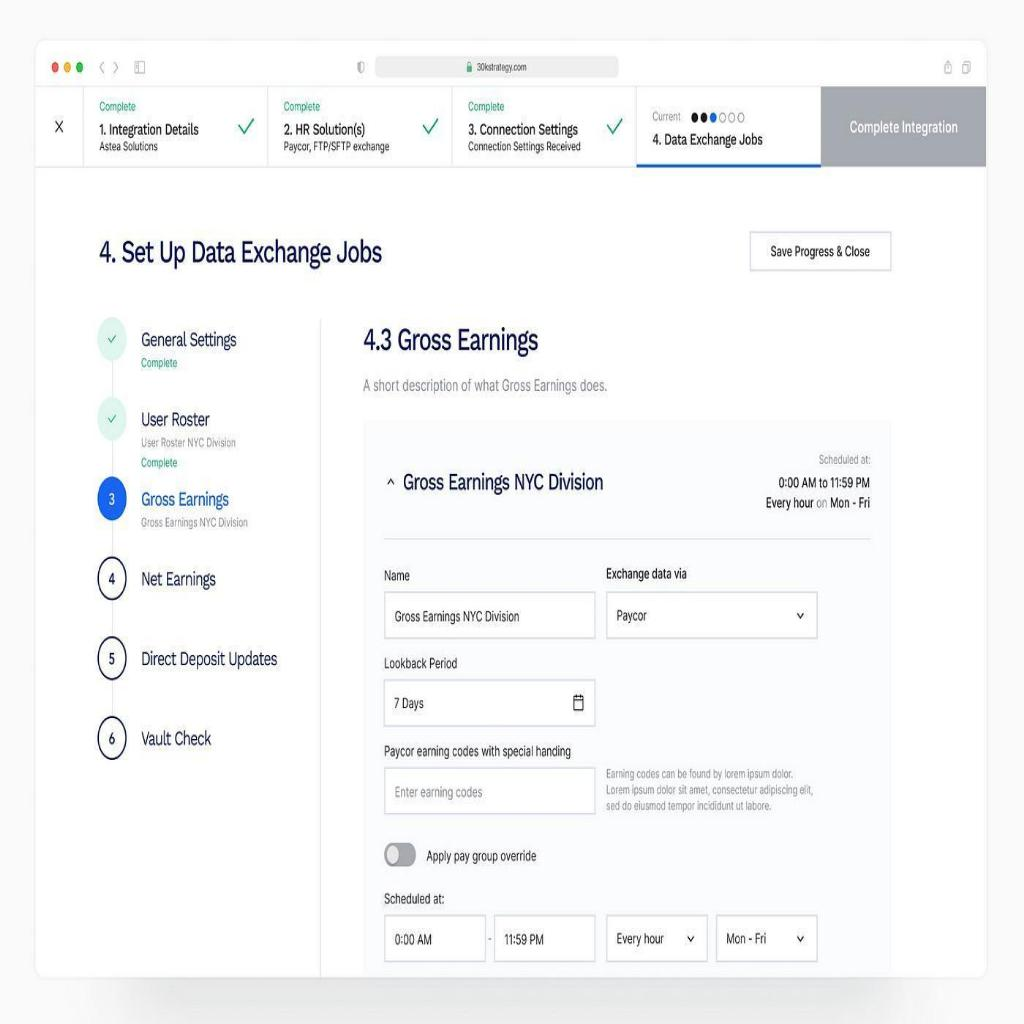button: (820, 87, 985, 166), (750, 232, 892, 271)
dropdown: (606, 592, 818, 639), (715, 914, 817, 961), (606, 916, 708, 962)
icon: (54, 116, 64, 137)
input: (384, 680, 596, 727), (384, 592, 595, 639), (385, 768, 595, 814), (384, 914, 486, 963), (494, 915, 595, 962)
label: (96, 236, 386, 268), (364, 322, 538, 358), (400, 468, 604, 496), (466, 122, 583, 156), (282, 122, 392, 154), (384, 743, 572, 760), (97, 122, 202, 152), (142, 650, 280, 672), (648, 129, 764, 149), (140, 328, 238, 350), (140, 488, 230, 510), (138, 567, 217, 592), (424, 849, 537, 865), (139, 727, 214, 750), (603, 564, 689, 584), (140, 409, 210, 431), (383, 656, 459, 674), (380, 566, 414, 584)
switch: (383, 842, 416, 868)
